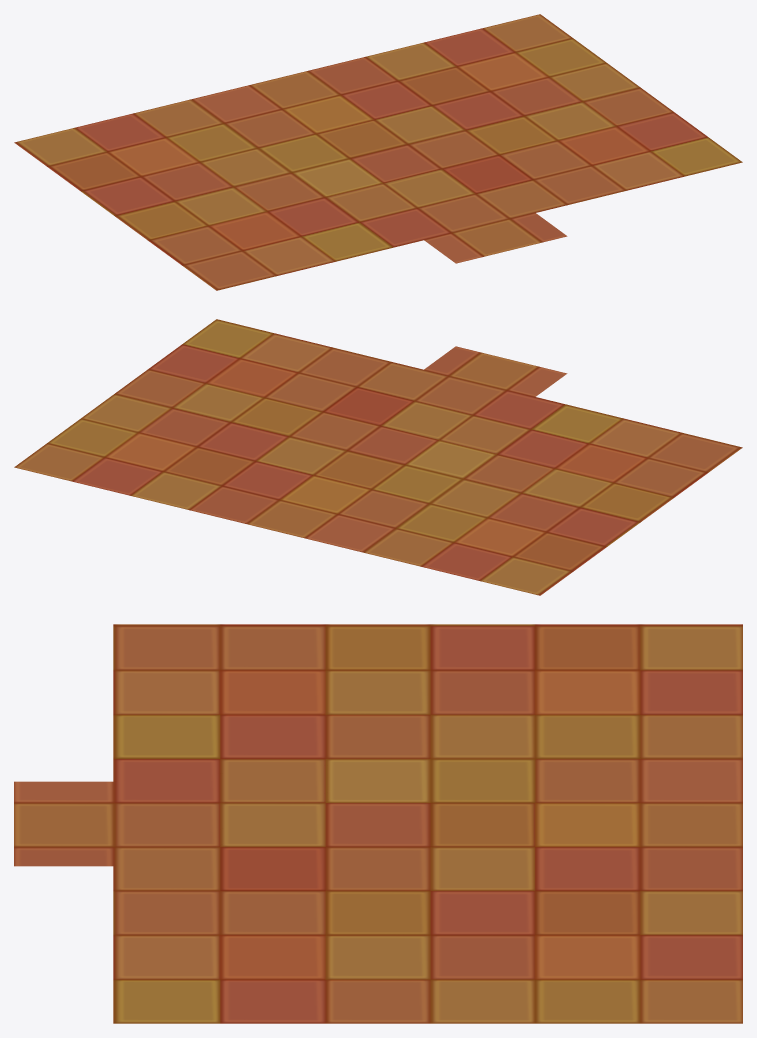
Rendered from Floor03_b01.FBX.
The picture shows the model from 3 angles, top to bottom: view 1: azimuth 30°, elevation 25°; view 2: azimuth 150°, elevation 25°; view 3: azimuth 270°, elevation 25°; orthographic projection. The views are drawn at different scales.
Parts seen in each view (by area): view 1: Floor03_b01; view 2: Floor03_b01; view 3: Floor03_b01.
Boxes of the visible parts, x1,y1,x2,y2 form: Floor03_b01: (14, 14, 742, 290); Floor03_b01: (14, 319, 742, 595); Floor03_b01: (14, 624, 742, 1023).
Size of the model in its own units: 900 by 0.000446 by 695.
Materials: 1 (1 with a texture image).
